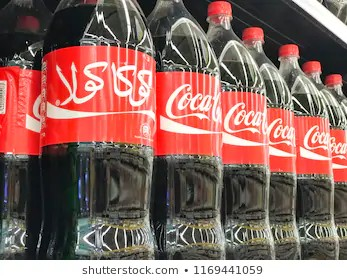coke-bottle-2l: (208, 4, 272, 260), (154, 8, 219, 255), (282, 27, 342, 260), (248, 21, 302, 260)
